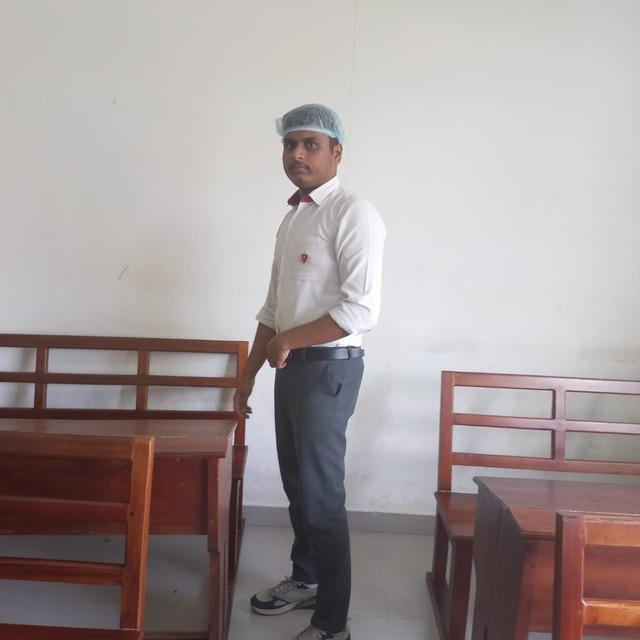no_apron: (232, 372, 258, 418), (266, 330, 294, 372)
no_gloves: (274, 104, 346, 146)
no_hairnet: (269, 144, 351, 193)
